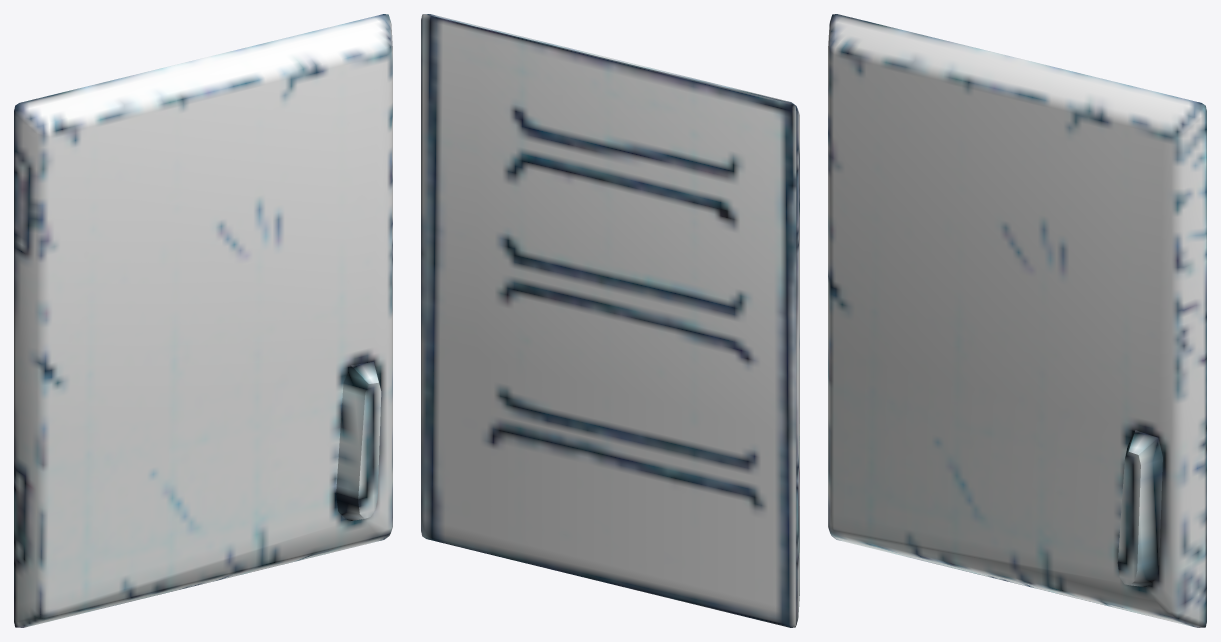
The model's file is FridgeDoor.fbx.
The picture shows the model from 3 angles, left to right: view 1: azimuth 30°, elevation 25°; view 2: azimuth 150°, elevation 25°; view 3: azimuth 330°, elevation 25°; orthographic projection.
Visible parts, largest first — view 1: FridgeDoor; view 2: FridgeDoor; view 3: FridgeDoor.
Part boxes in pixels (x1,y1,x2,y2): FridgeDoor: (14,14,392,627); FridgeDoor: (421,14,799,627); FridgeDoor: (828,14,1206,627).
Bounding box in the file's own units: 67.24 × 89.83 × 9.31.
